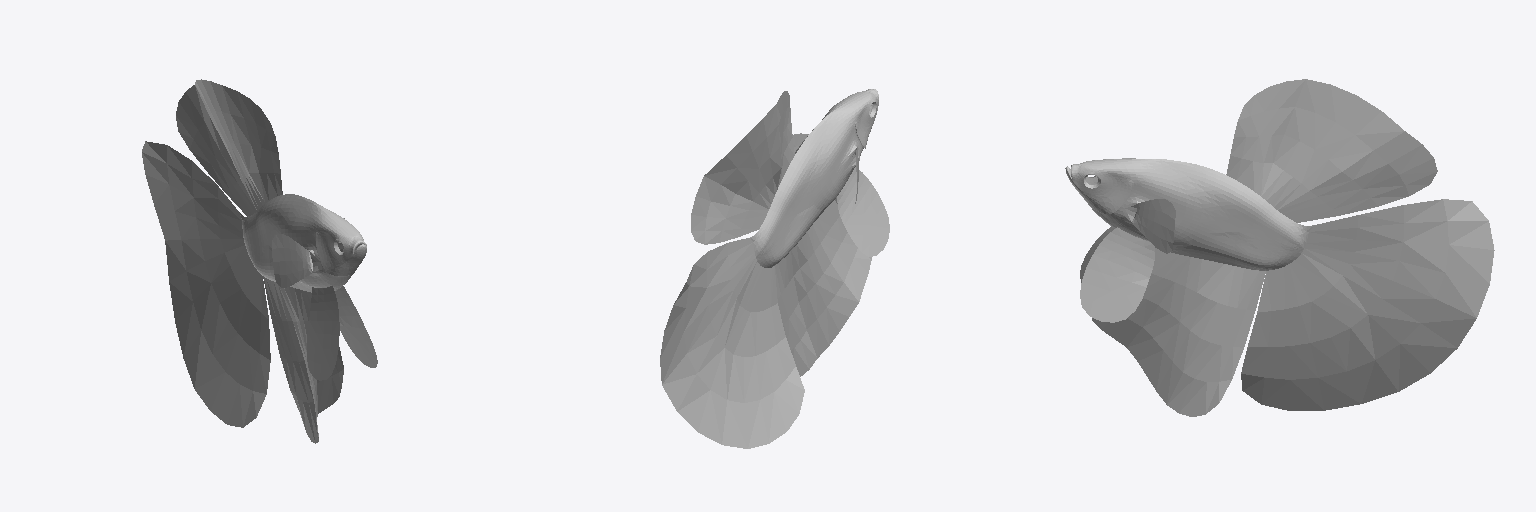
The model's file is fish0.obj.
3 views of the same model, side by side, from view 1: azimuth 30°, elevation 25°; view 2: azimuth 150°, elevation 25°; view 3: azimuth 270°, elevation 25° (orthographic).
Visible parts, largest first — view 1: BODY_0; view 2: BODY_0; view 3: BODY_0.
Part boxes in pixels (bbox=[...]): BODY_0: bbox=[142, 79, 377, 443]; BODY_0: bbox=[660, 89, 889, 448]; BODY_0: bbox=[1065, 79, 1494, 416].
Size of the model in its own units: 1.23 by 5.38 by 6.27.